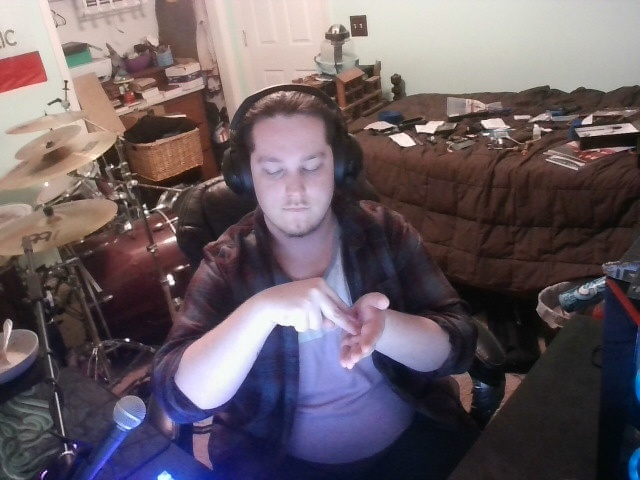fork: (256, 272, 398, 386)
